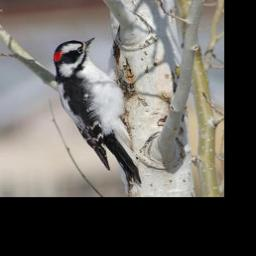Woodpecker: (55, 36, 144, 188)
